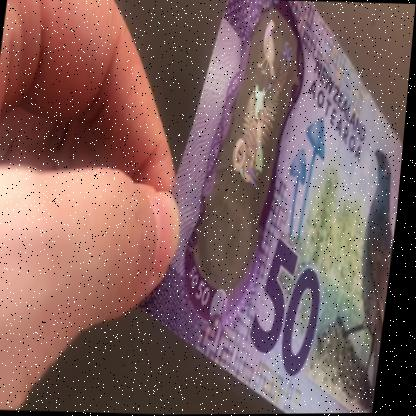50B: (201, 17, 301, 292)
